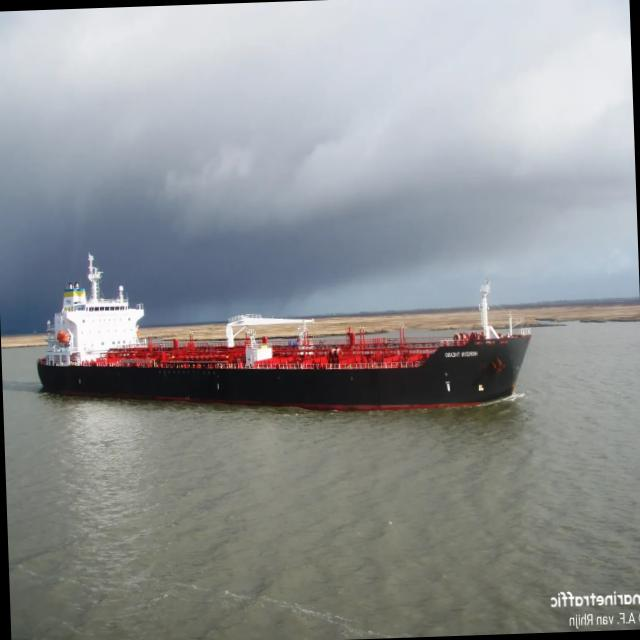Tanker: (37, 257, 530, 410)
